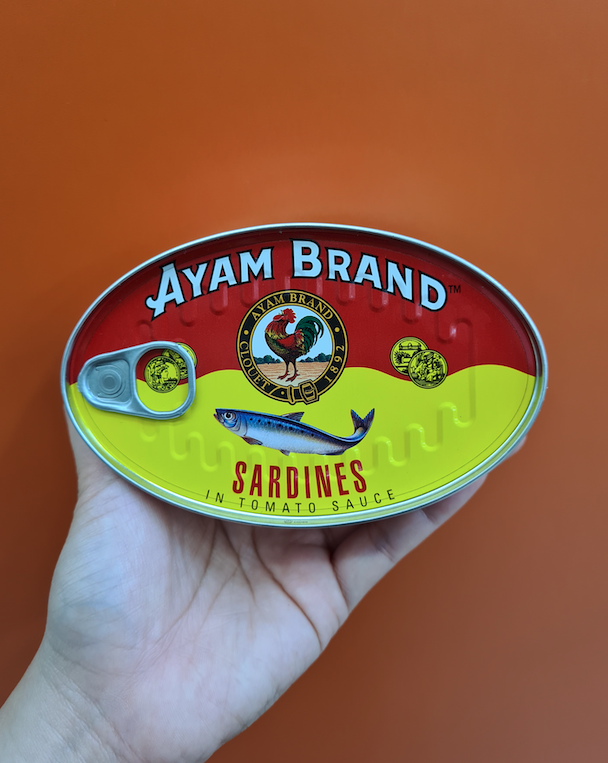Canned_Sardines_and_Mackerel: (123, 237, 485, 515)
